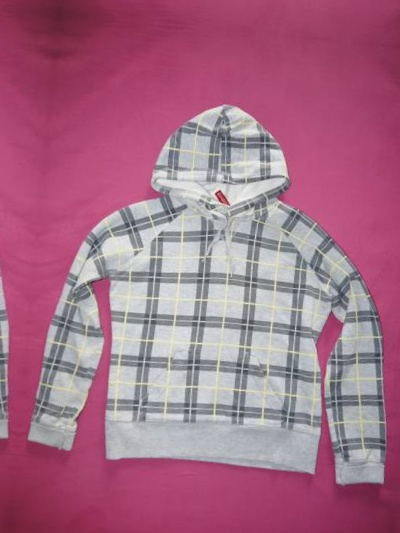Hoodie: (14, 89, 400, 513), (0, 54, 51, 478)
